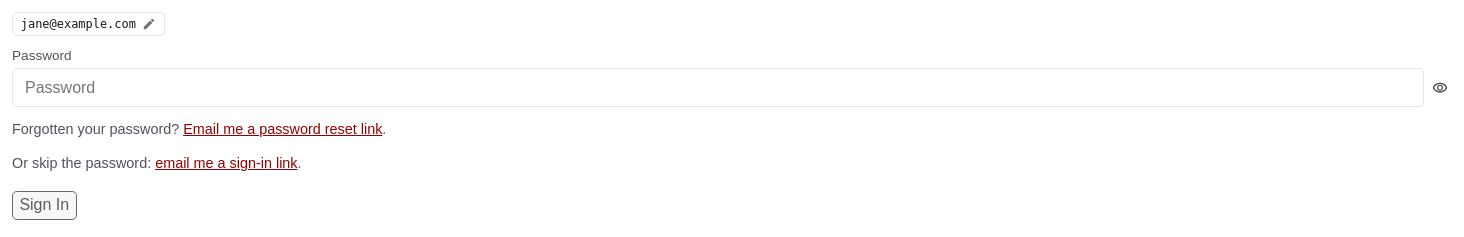
it: InlineAuthComponent › changing the email › should return to email entry when the address is clicked
Step 1. Click the button with id "change-email-btn" → (88, 24), box [12,12,165,36]
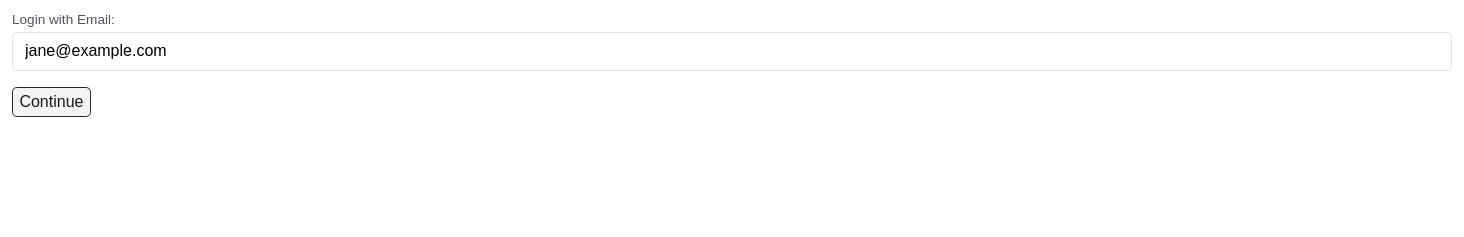
expect the field with id "email-input" is shown: met, box [12,32,1452,71]
